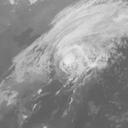cyclone: (54, 46, 98, 86)
